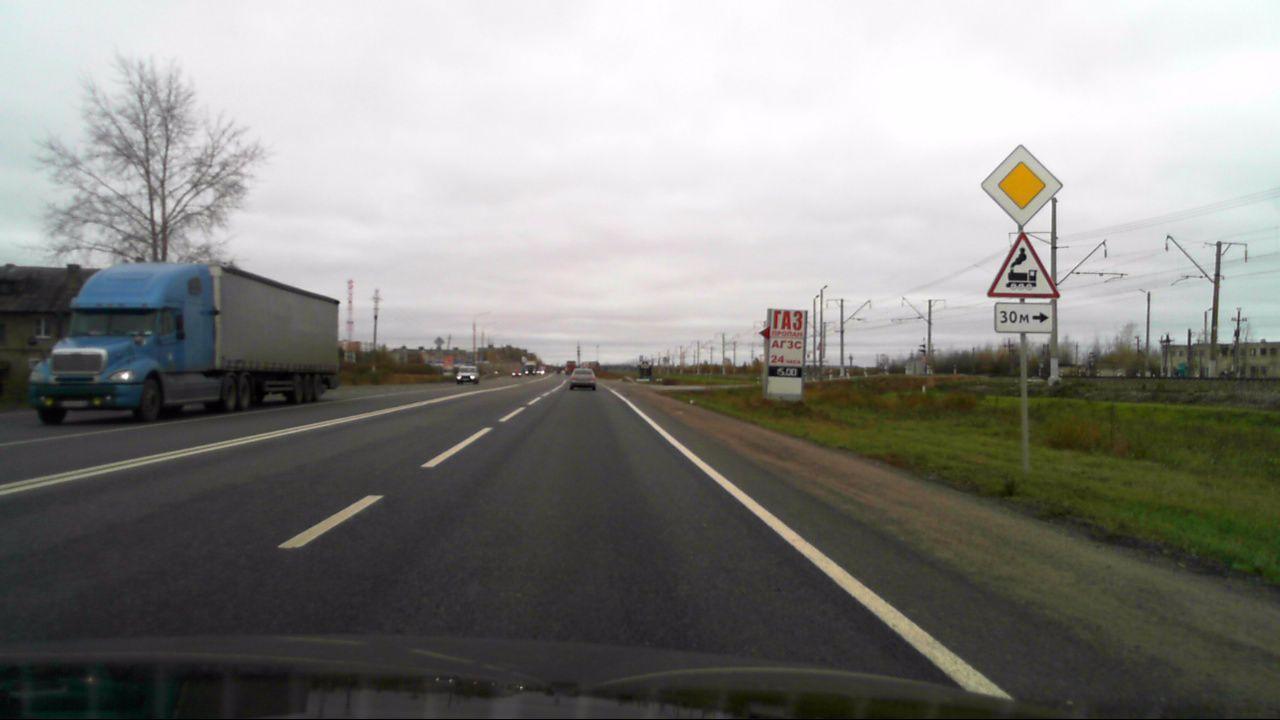1_2: (983, 229, 1065, 299)
2_1: (978, 139, 1064, 225)
8_1_3: (992, 302, 1058, 332)
